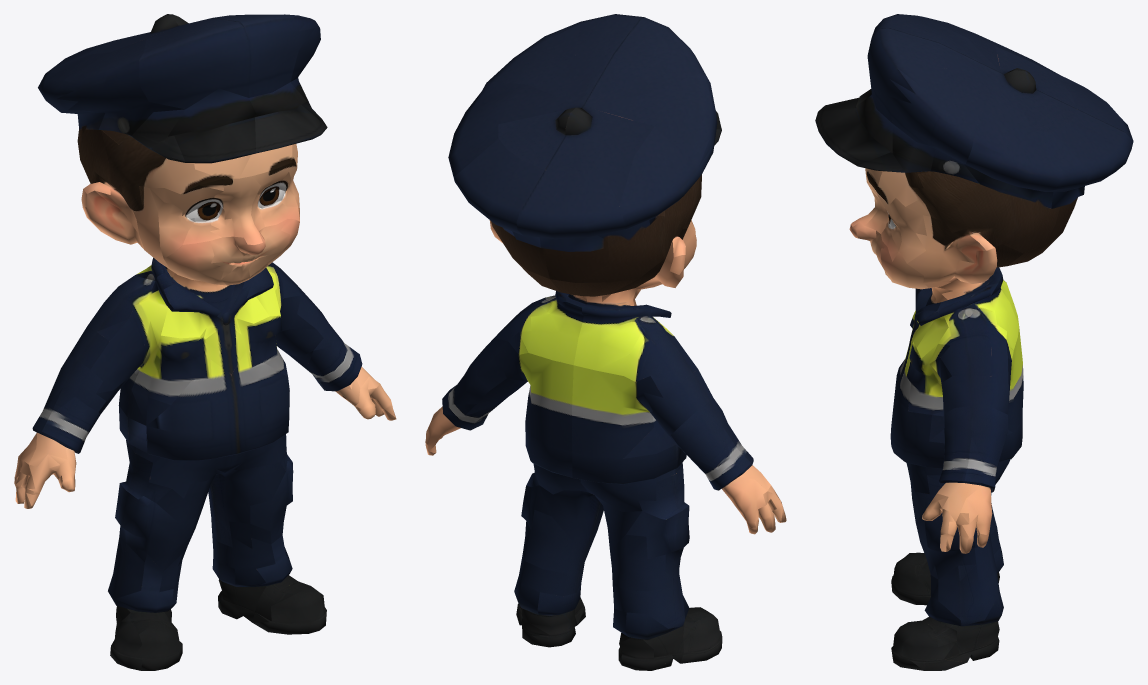
Rendered from Police_MeshyPro.obj.
3 renders of one model, left to right at view 1: azimuth 30°, elevation 25°; view 2: azimuth 150°, elevation 25°; view 3: azimuth 270°, elevation 25°, orthographic. The views are drawn at different scales.
Visible parts, largest first — view 1: Police; view 2: Police; view 3: Police.
Part boxes in pixels (box(x1,y1,x2,y2)): Police: box(14, 14, 396, 670); Police: box(425, 14, 786, 670); Police: box(815, 14, 1133, 670).
Bounding box in the file's own units: 1.1 × 1.8 × 0.8701.
Materials: 1 (1 with a texture image).
